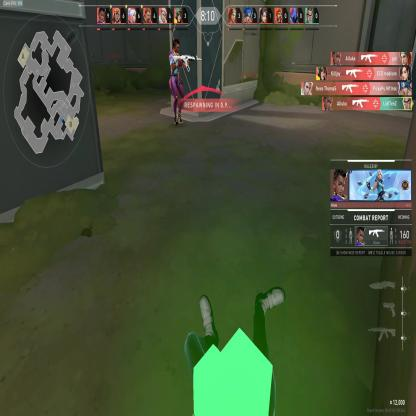enemy: (168, 34, 189, 127)
